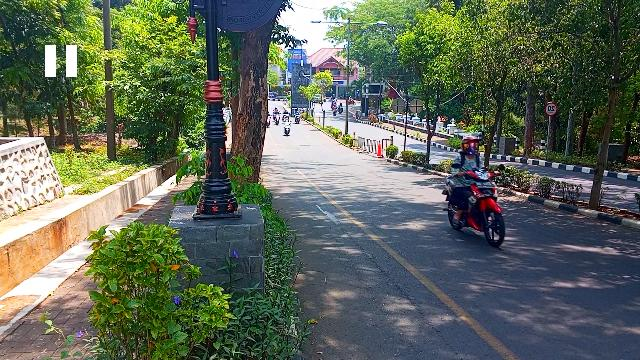helm: (442, 163, 509, 249), (461, 137, 483, 158)
